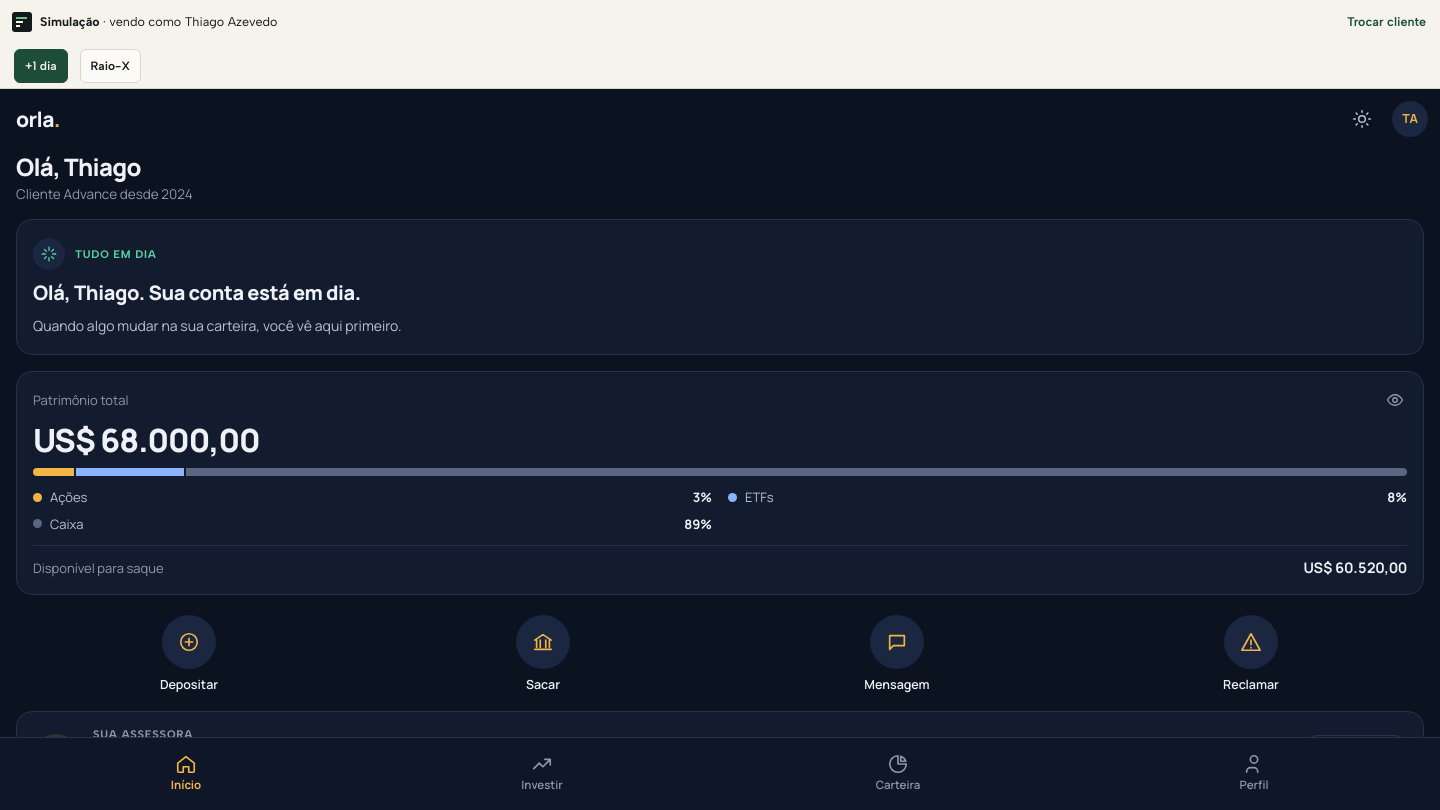
Test: Raio-X SDUI toggle in the simulation strip › draws the omitted activity and says the timeline is down
The image size is (1440, 810).
What coordinates should you click on to do the following:
click the button "Raio-X"
I would click on:
 (110, 66)
Its box is [78, 44, 143, 88].
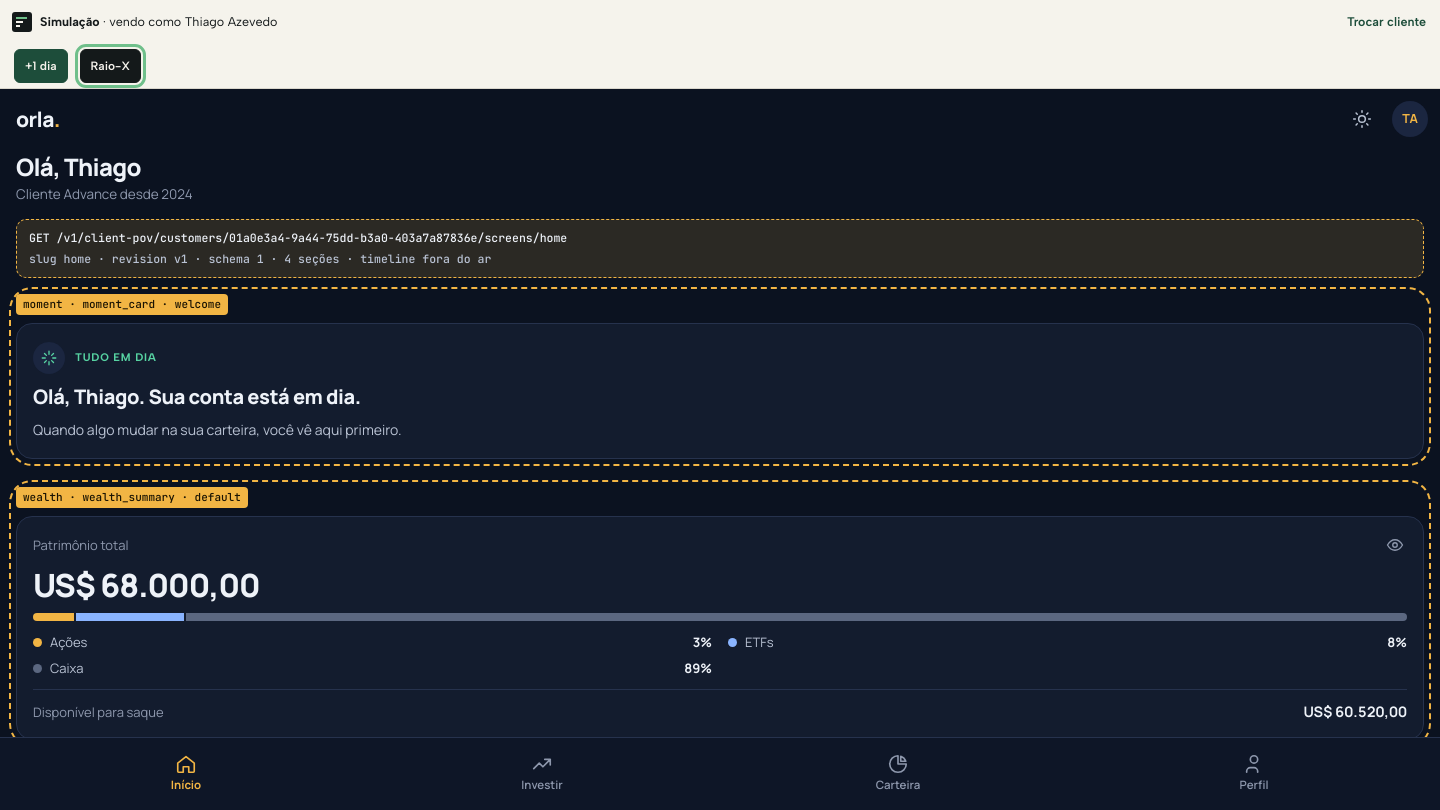
Expected: the element named "Raio-X SDUI" shows "slug home · revision v1 · schema 1 · 4 seções · timeline fora do ar", [29, 251, 491, 266]
